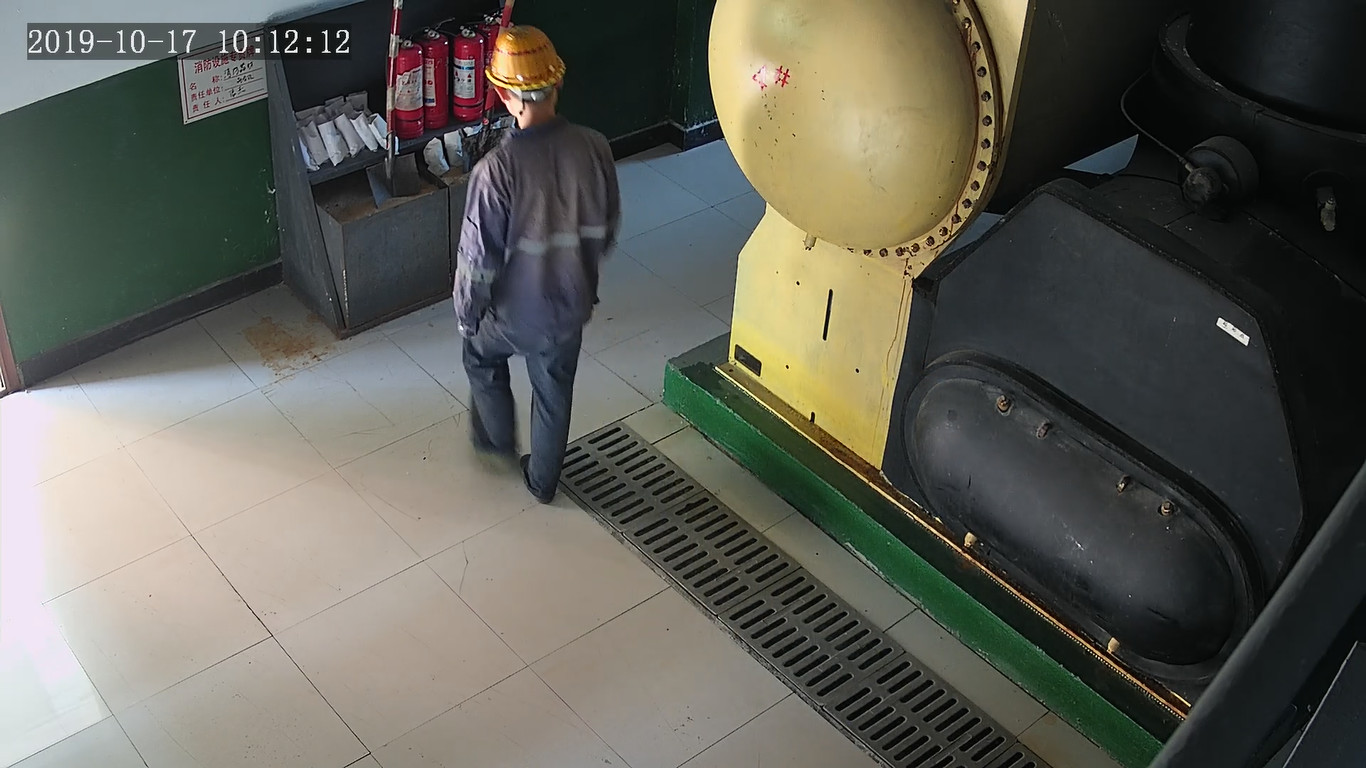helmet: (484, 25, 566, 89)
